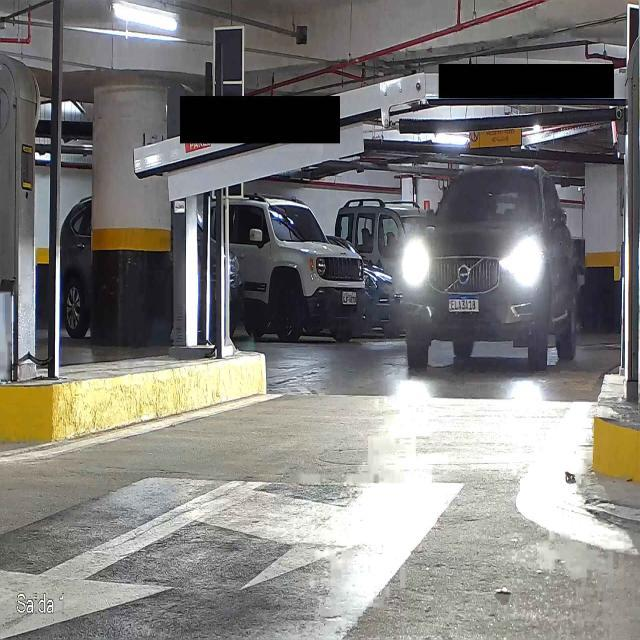mercosul_plate: (448, 294, 480, 313)
